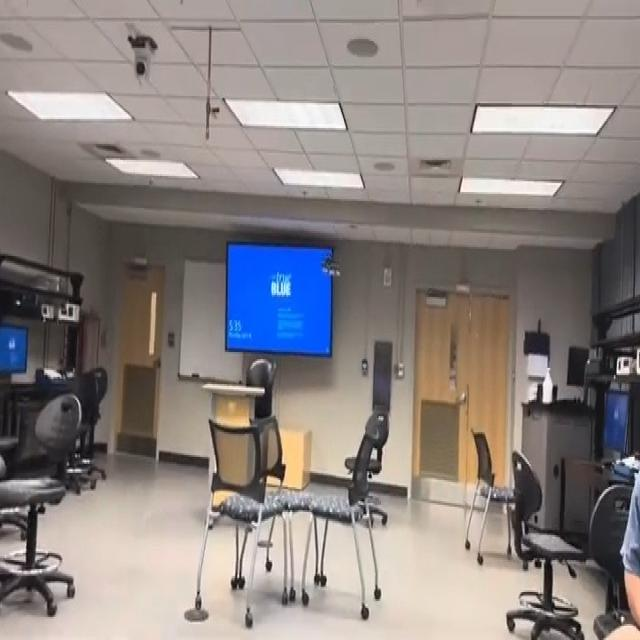drone: (317, 249, 347, 290)
